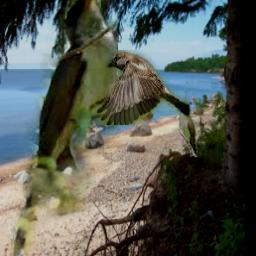Cuckoo: (11, 0, 118, 256), (178, 102, 198, 158)
Sparrow: (94, 51, 190, 126)
